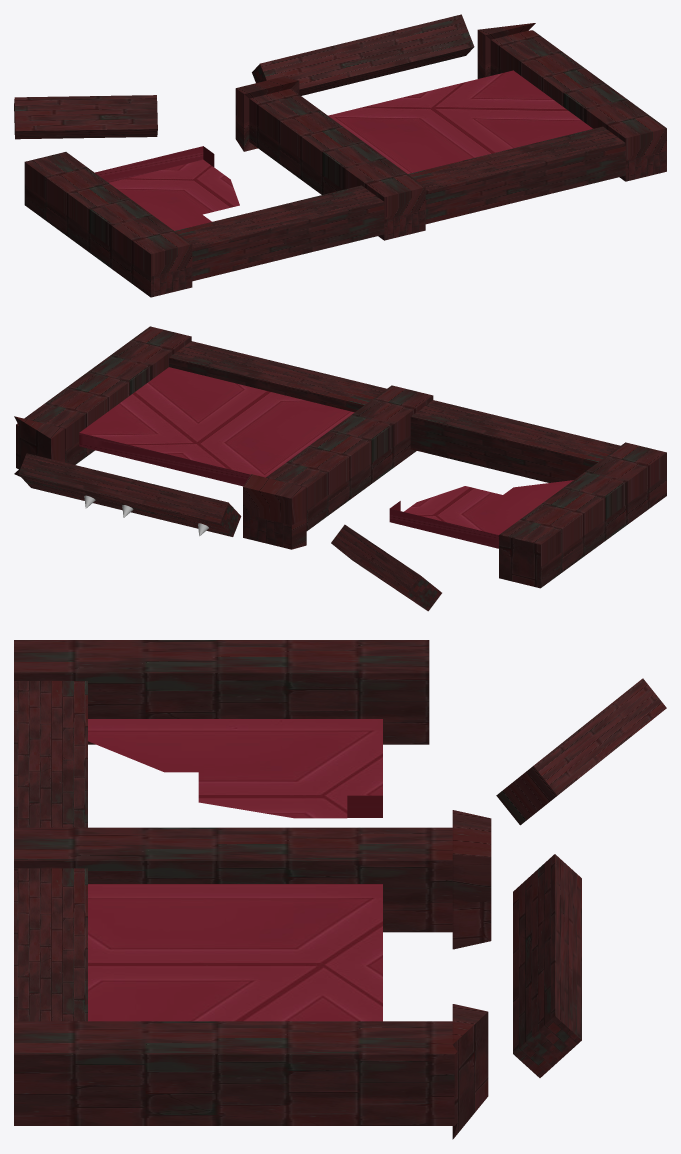
File: Barricade_Lv3_Cassee.fbx
3 renders of one model, top to bottom at view 1: azimuth 30°, elevation 25°; view 2: azimuth 150°, elevation 25°; view 3: azimuth 270°, elevation 25°, orthographic. The views are drawn at different scales.
Parts seen in each view (by area): view 1: Cube.100, Cube.098, Cube.106, Cube.101, Cube.102, Cube.105, Cube.099, Cube.103, Cube.104; view 2: Cube.100, Cube.098, Cube.106, Cube.102, Cube.105, Cube.099, Cube.101, Cube.103, Cube.104; view 3: Cube.105, Cube.100, Cube.098, Cube.106, Cube.103, Cube.099, Cube.101, Cube.102, Cube.104.
Part boxes in pixels (bbox=[...]): Cube.100: bbox=[328, 70, 592, 173]; Cube.098: bbox=[235, 76, 425, 240]; Cube.106: bbox=[24, 152, 192, 297]; Cube.101: bbox=[408, 126, 625, 224]; Cube.102: bbox=[175, 185, 384, 281]; Cube.105: bbox=[477, 23, 666, 181]; Cube.099: bbox=[252, 14, 474, 95]; Cube.103: bbox=[95, 146, 239, 230]; Cube.104: bbox=[14, 95, 157, 139]; Cube.100: bbox=[79, 367, 354, 486]; Cube.098: bbox=[243, 385, 433, 549]; Cube.106: bbox=[499, 442, 666, 588]; Cube.102: bbox=[410, 400, 620, 482]; Cube.105: bbox=[14, 326, 191, 476]; Cube.099: bbox=[18, 453, 241, 536]; Cube.101: bbox=[169, 341, 386, 412]; Cube.103: bbox=[389, 480, 573, 548]; Cube.104: bbox=[331, 524, 441, 611]; Cube.105: bbox=[14, 1004, 488, 1139]; Cube.100: bbox=[88, 884, 382, 1021]; Cube.098: bbox=[14, 810, 491, 949]; Cube.106: bbox=[14, 640, 429, 744]; Cube.103: bbox=[88, 719, 382, 818]; Cube.099: bbox=[513, 854, 581, 1077]; Cube.101: bbox=[14, 868, 87, 1021]; Cube.102: bbox=[14, 681, 87, 827]; Cube.104: bbox=[496, 678, 666, 825].
Size of the model in its own units: 313 by 33.26 by 207.
